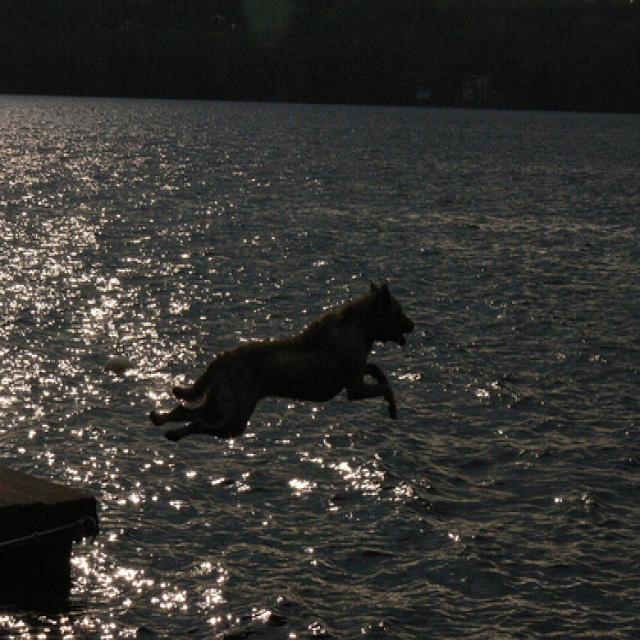Dog: (178, 242, 429, 489)
